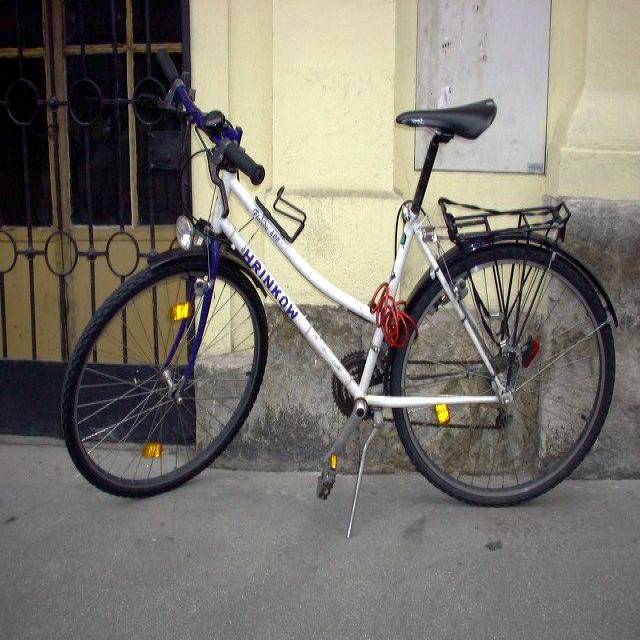bicycle: (60, 48, 618, 536)
